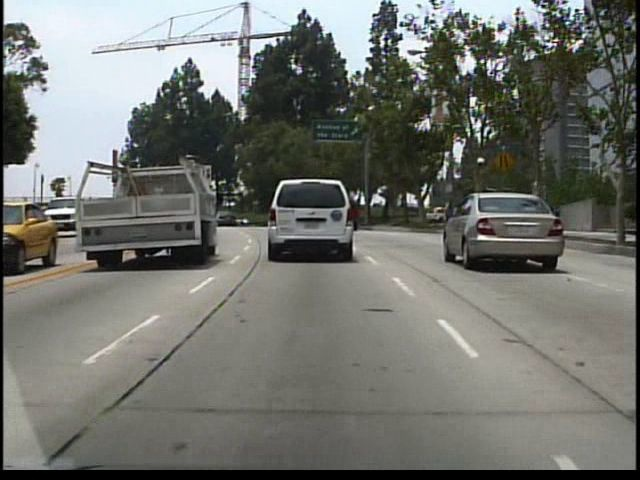person: (441, 193, 458, 232)
